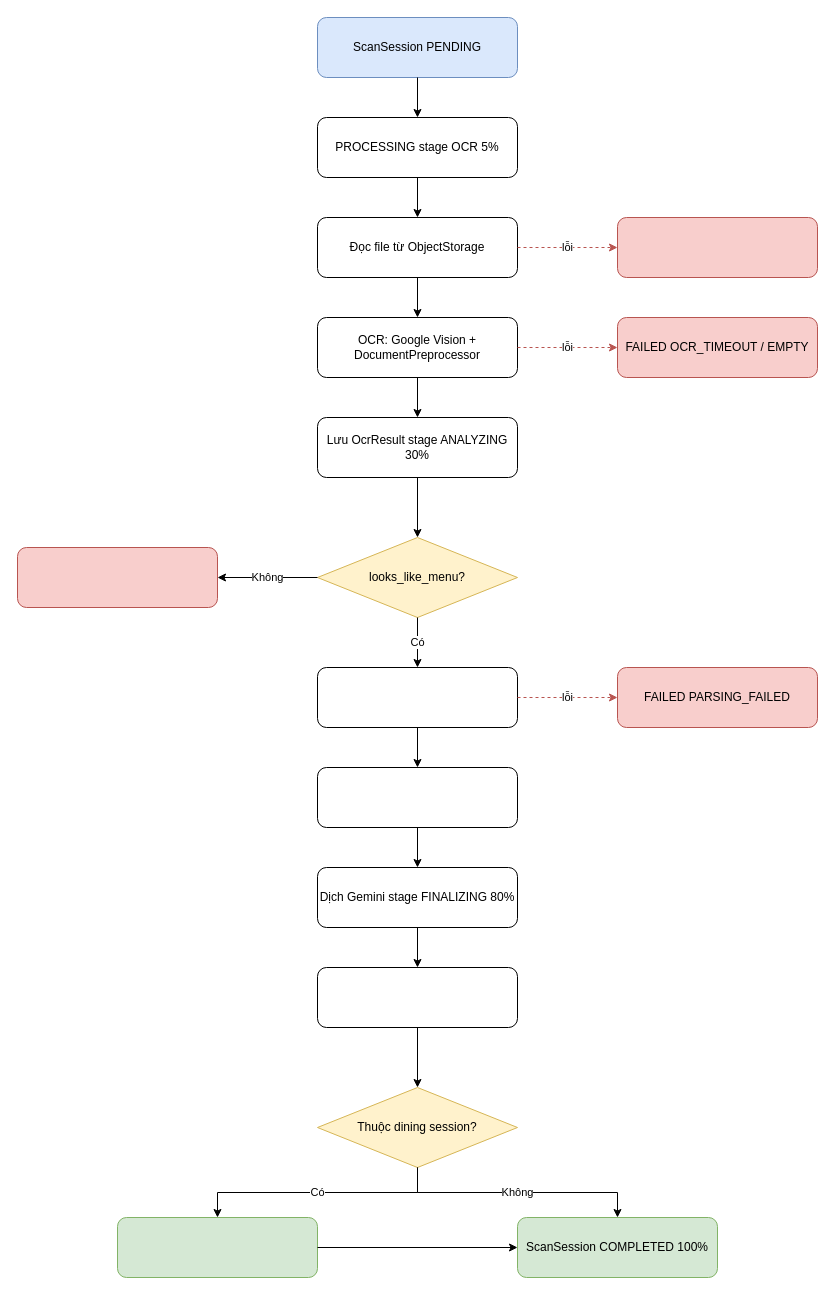
Some shapes in this 835 by 1295 pixel diagram are drawn without their labels. The shapes that lost their labels are listed below. From the top down, each one's box as (x1, y1, x2, y2) in pixels, then its label:
(616, 216, 818, 278): FAILED SOURCE_FILE_NOT_FOUND
(16, 546, 218, 608): FAILED INVALID_DOCUMENT
(316, 666, 518, 728): Parse LLM Gemini fallback RuleBasedMenuParser
(316, 766, 518, 828): verify_draft stage TRANSLATING 55%
(316, 966, 518, 1028): Tạo Menu + FoodItems
(116, 1216, 318, 1278): attach_menu COMPLETED
